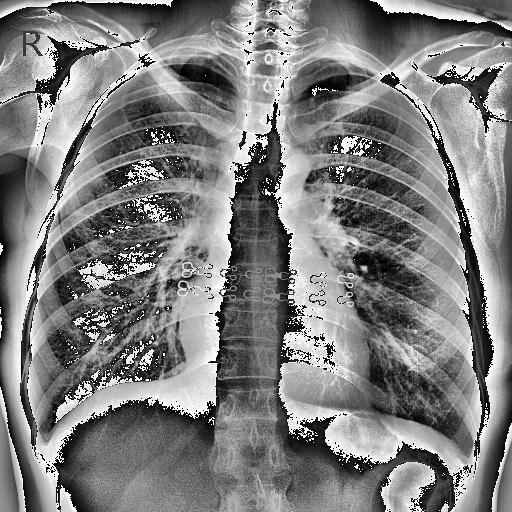11- Pleural thickening: (310, 50, 394, 82), (139, 48, 216, 70), (150, 46, 220, 64), (312, 54, 364, 68), (157, 50, 216, 60)
